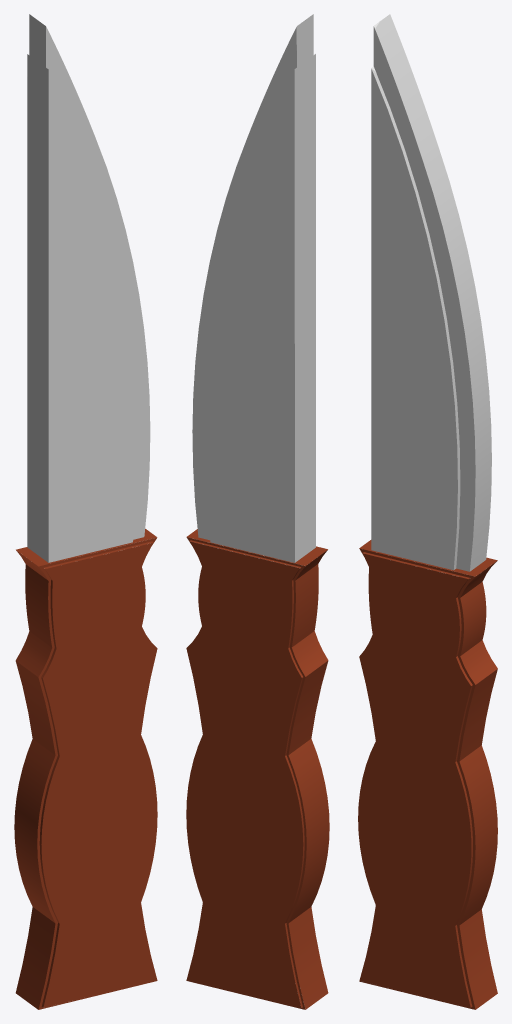
3 views of the same model, side by side, from view 1: azimuth 30°, elevation 25°; view 2: azimuth 150°, elevation 25°; view 3: azimuth 330°, elevation 25° (orthographic). The views are drawn at different scales.
Parts seen in each view (by area): view 1: mesh1-geometry-1, mesh1-geometry-2; view 2: mesh1-geometry-1, mesh1-geometry-2; view 3: mesh1-geometry-1, mesh1-geometry-2.
Boxes of the visible parts, left/top/right/bottom form: mesh1-geometry-1: left=14, top=529, right=157, bottom=1009; mesh1-geometry-2: left=27, top=14, right=150, bottom=562; mesh1-geometry-1: left=186, top=529, right=329, bottom=1009; mesh1-geometry-2: left=192, top=14, right=315, bottom=562; mesh1-geometry-1: left=358, top=540, right=497, bottom=1009; mesh1-geometry-2: left=371, top=14, right=491, bottom=571.
Bounding box in the file's own units: 0.1275 × 0.9907 × 0.048.
